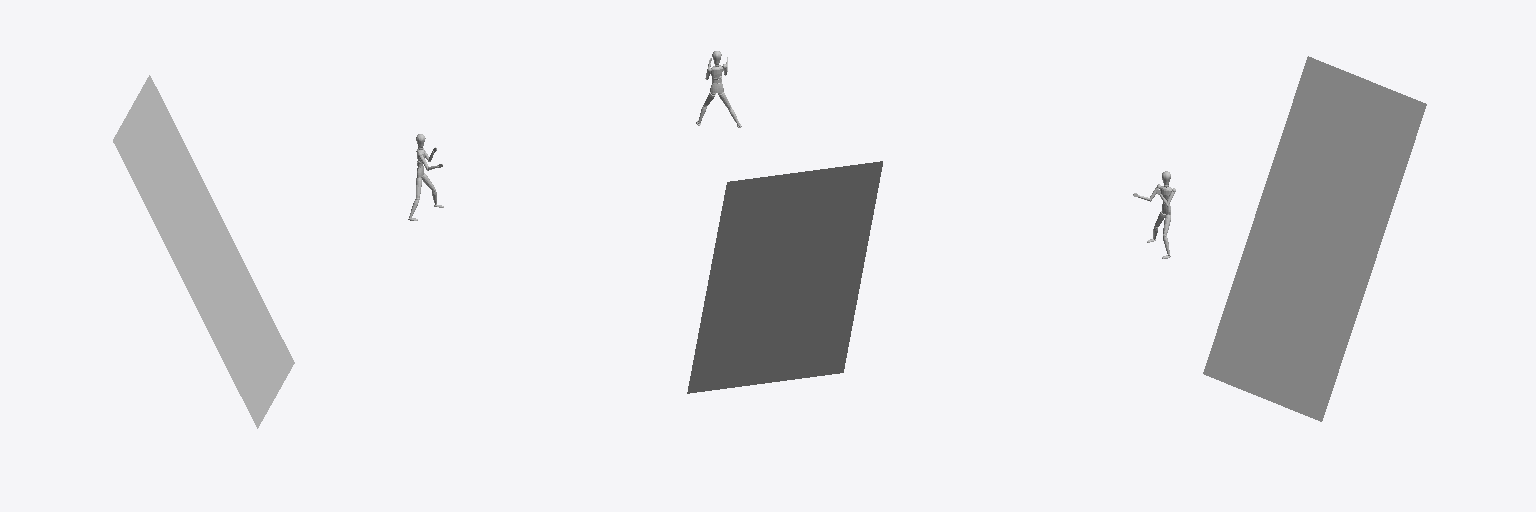
Rendered from mutou.obj.
3 renders of one model, left to right at view 1: azimuth 30°, elevation 25°; view 2: azimuth 150°, elevation 25°; view 3: azimuth 270°, elevation 25°, orthographic.
Visible parts, largest first — view 1: Plane.003_Plane.007; view 2: Plane.003_Plane.007; view 3: Plane.003_Plane.007.
Part boxes in pixels (left/top/right/bottom): Plane.003_Plane.007: left=113, top=75, right=294, bottom=428; Plane.003_Plane.007: left=687, top=161, right=882, bottom=393; Plane.003_Plane.007: left=1203, top=56, right=1426, bottom=421.
Bounding box in the file's own units: 47.21 × 47.73 × 46.46.